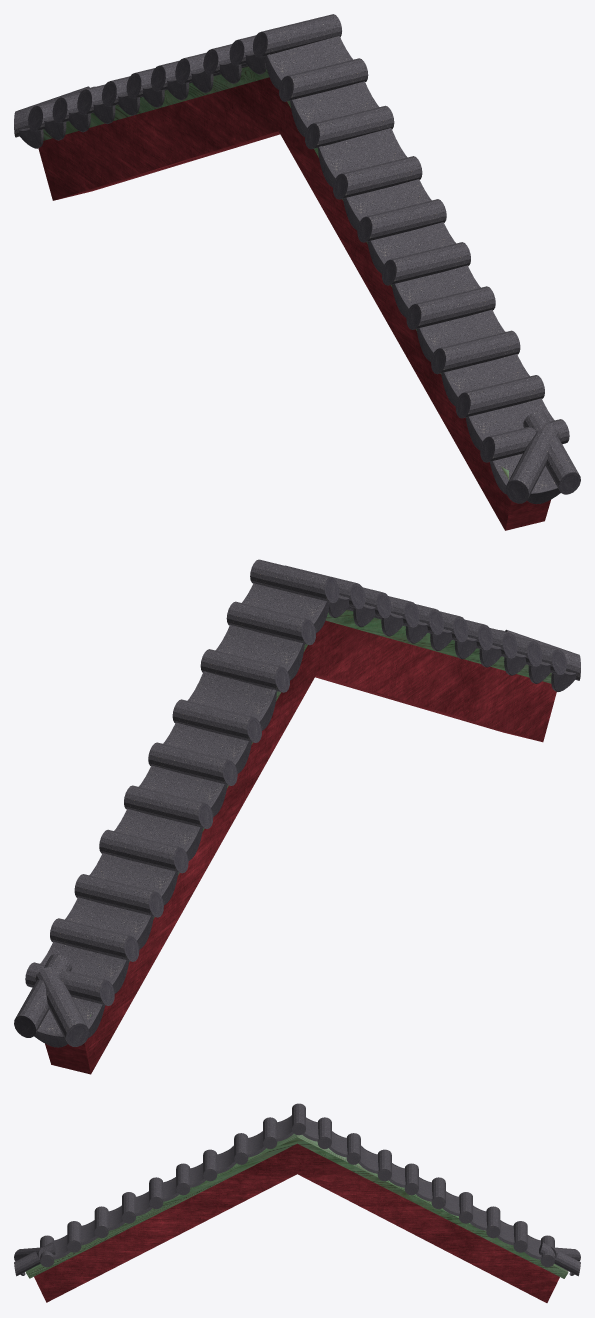
The model's file is SM_R_RoofOuter_15.fbx.
The picture shows the model from 3 angles, top to bottom: view 1: azimuth 30°, elevation 25°; view 2: azimuth 150°, elevation 25°; view 3: azimuth 270°, elevation 25°; orthographic projection. The views are drawn at different scales.
Visible parts, largest first — view 1: SM_R_RoofOuter_15; view 2: SM_R_RoofOuter_15; view 3: SM_R_RoofOuter_15.
Boxes of the visible parts, box(x1,y1,x2,y2) form: SM_R_RoofOuter_15: box(14, 14, 580, 530); SM_R_RoofOuter_15: box(14, 559, 580, 1074); SM_R_RoofOuter_15: box(14, 1103, 580, 1302).
Size of the model in its own units: 55.34 by 618 by 223.
2 materials, 2 textured.
